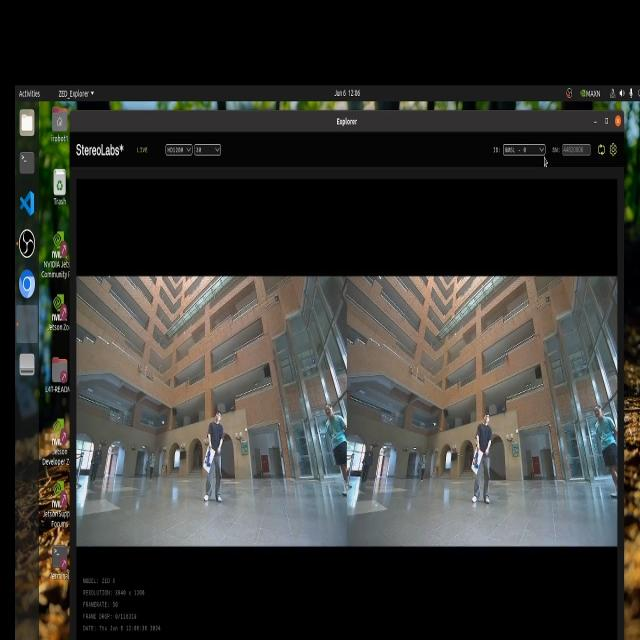blue: (468, 451, 481, 474), (208, 457, 214, 470)
